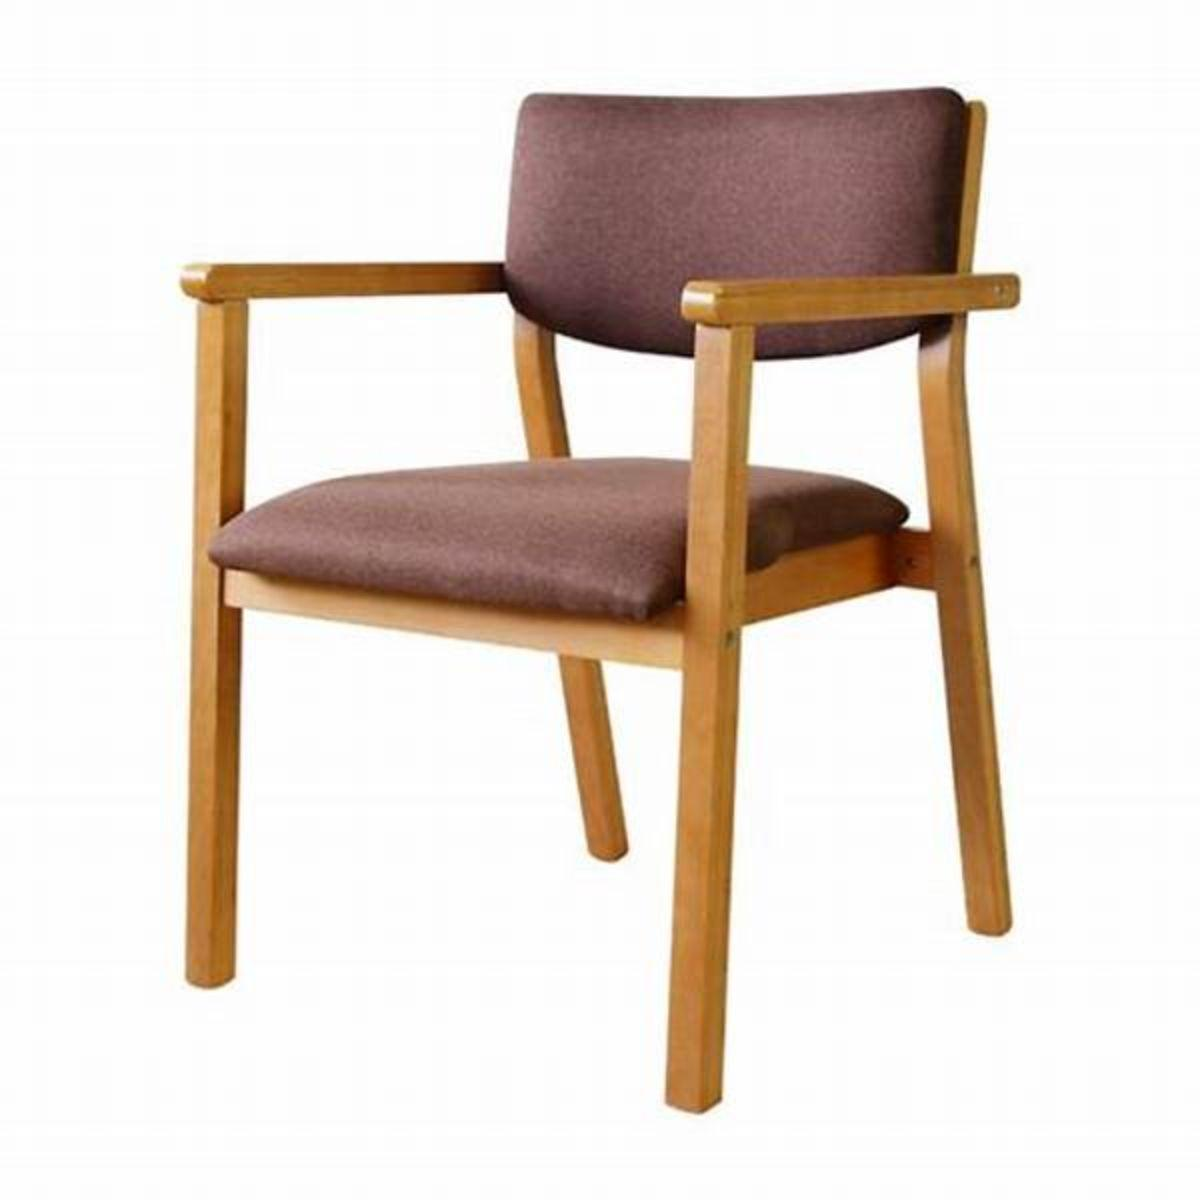Chair: (171, 86, 1023, 1113)
